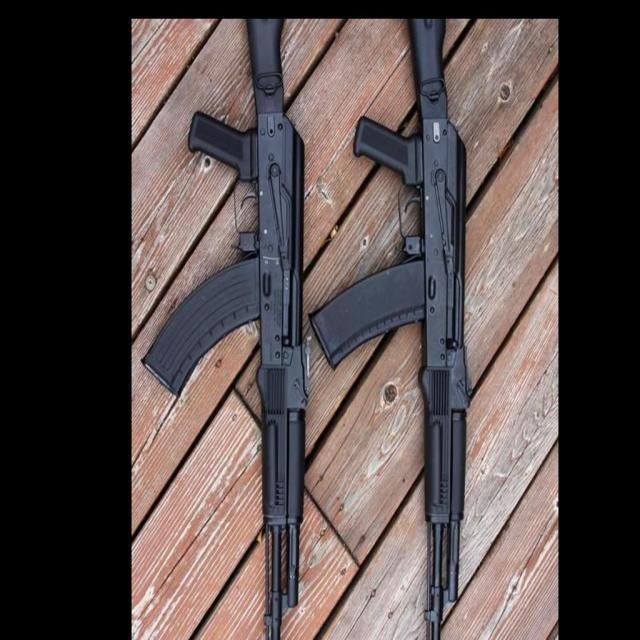weapon: (142, 21, 312, 640), (306, 20, 474, 640)
